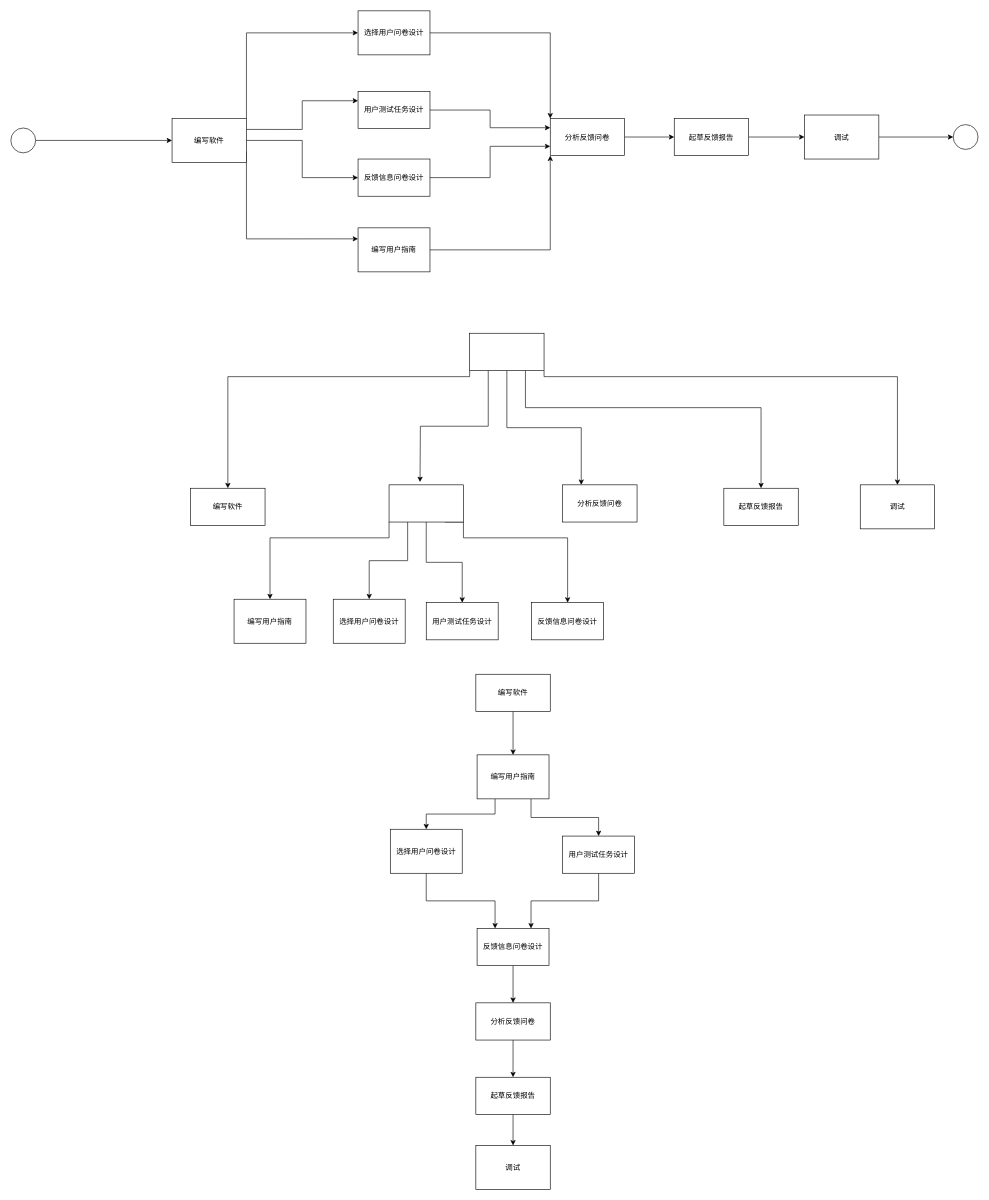
Image size: 989x1200. Some labels were removed from this diagram. Here are the shapes that lost their labels. From the top down, the centre of each, then its label:
At (506,351): "可用性测试".
At (425,503): "测试准备".
